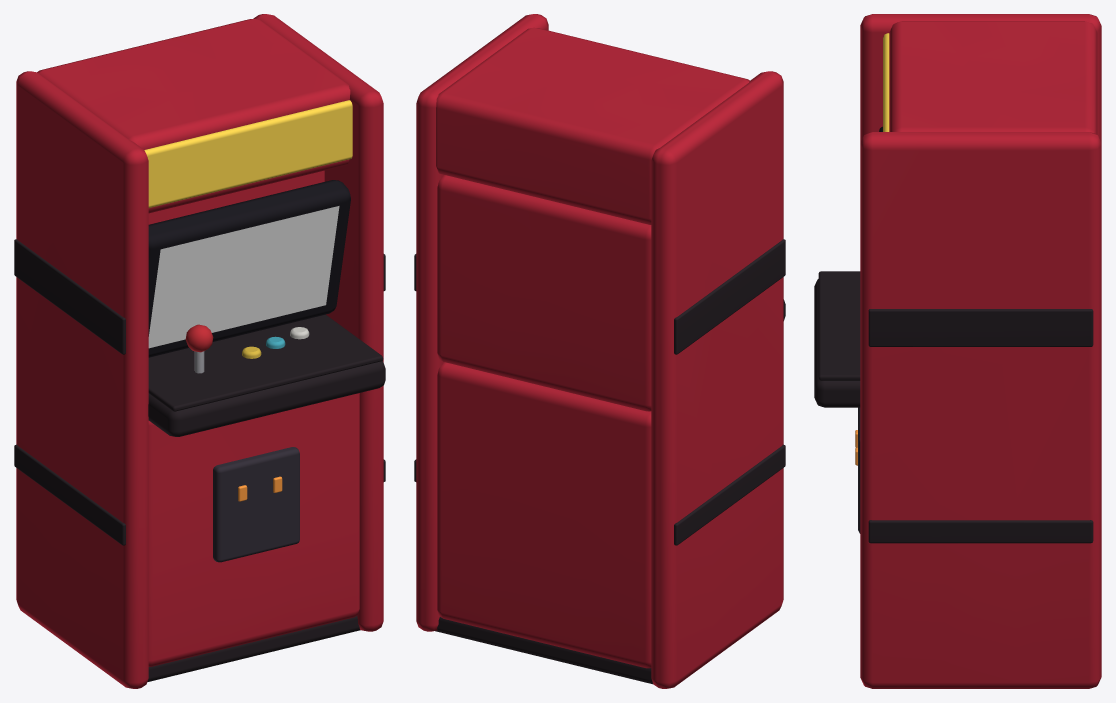
The model's file is furn_cab_fortune.glb.
3 views of the same model, side by side, from view 1: azimuth 30°, elevation 25°; view 2: azimuth 150°, elevation 25°; view 3: azimuth 270°, elevation 25° (orthographic). The views are drawn at different scales.
Parts seen in each view (by area): view 1: furn_cab_fortune_main, furn_cab_fortune_screen, furn_cab_fortune_glow; view 2: furn_cab_fortune_main; view 3: furn_cab_fortune_main, furn_cab_fortune_glow.
Part boxes in pixels (x1,y1,x2,y2): furn_cab_fortune_main: (14, 14, 385, 688); furn_cab_fortune_screen: (148, 206, 339, 348); furn_cab_fortune_glow: (144, 100, 352, 501); furn_cab_fortune_main: (414, 14, 785, 688); furn_cab_fortune_main: (814, 14, 1101, 688); furn_cab_fortune_glow: (855, 33, 889, 465).
Bounding box in the file's own units: 0.752 × 1.47 × 0.69.
